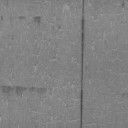surface scratch: (80, 0, 85, 128)
